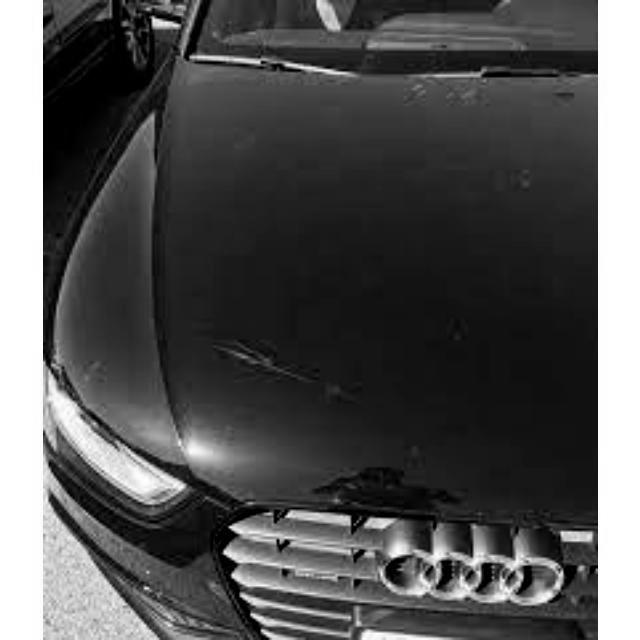bonnet-dent: (74, 72, 594, 528)
